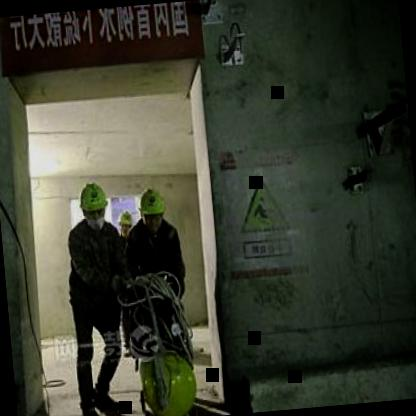helmet: (78, 176, 112, 228), (137, 184, 168, 233), (115, 208, 135, 240)
